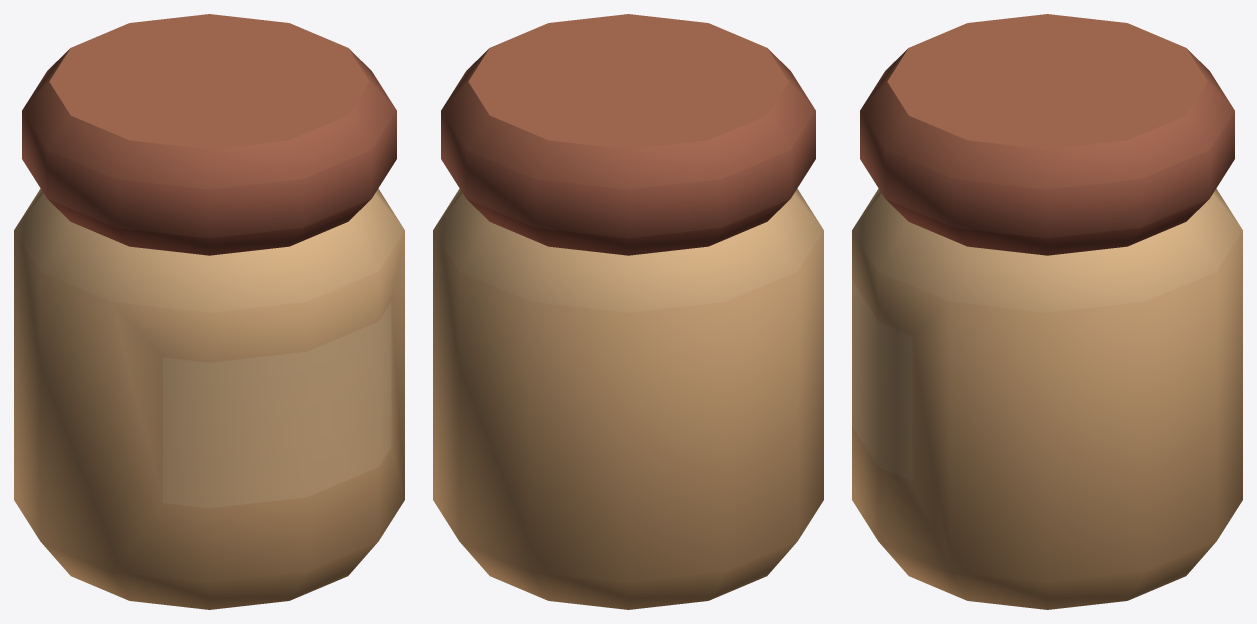
The model's file is jar_C_medium.obj.
3 views of the same model, side by side, from view 1: azimuth 30°, elevation 25°; view 2: azimuth 150°, elevation 25°; view 3: azimuth 270°, elevation 25° (orthographic).
Visible parts, largest first — view 1: jar_C_medium_Cylinder.268; view 2: jar_C_medium_Cylinder.268; view 3: jar_C_medium_Cylinder.268.
Boxes of the visible parts, left/top/right/bottom form: jar_C_medium_Cylinder.268: left=14, top=14, right=404, bottom=609; jar_C_medium_Cylinder.268: left=433, top=14, right=823, bottom=609; jar_C_medium_Cylinder.268: left=852, top=14, right=1242, bottom=609.
Size of the model in its own units: 0.5 by 0.65 by 0.5.
1 material, 1 textured.
